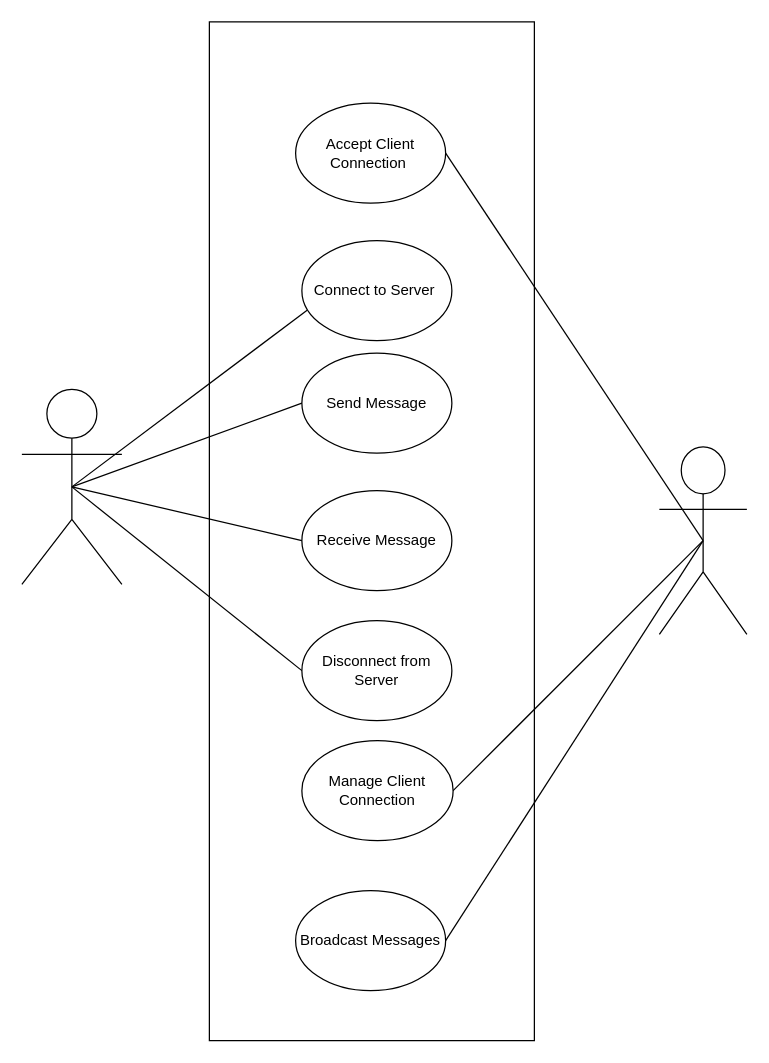
The diagram is 769 pixels wide and 1063 high, and some of its shapes have lost their labels. The centre of each missing label's shape, as x and y in pixels:
"Client" goes at point (71, 486).
"Server" goes at point (702, 540).
